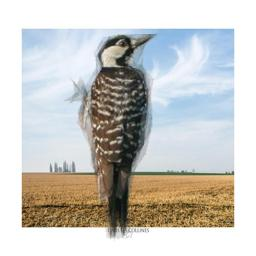Woodpecker: (64, 34, 158, 249)
